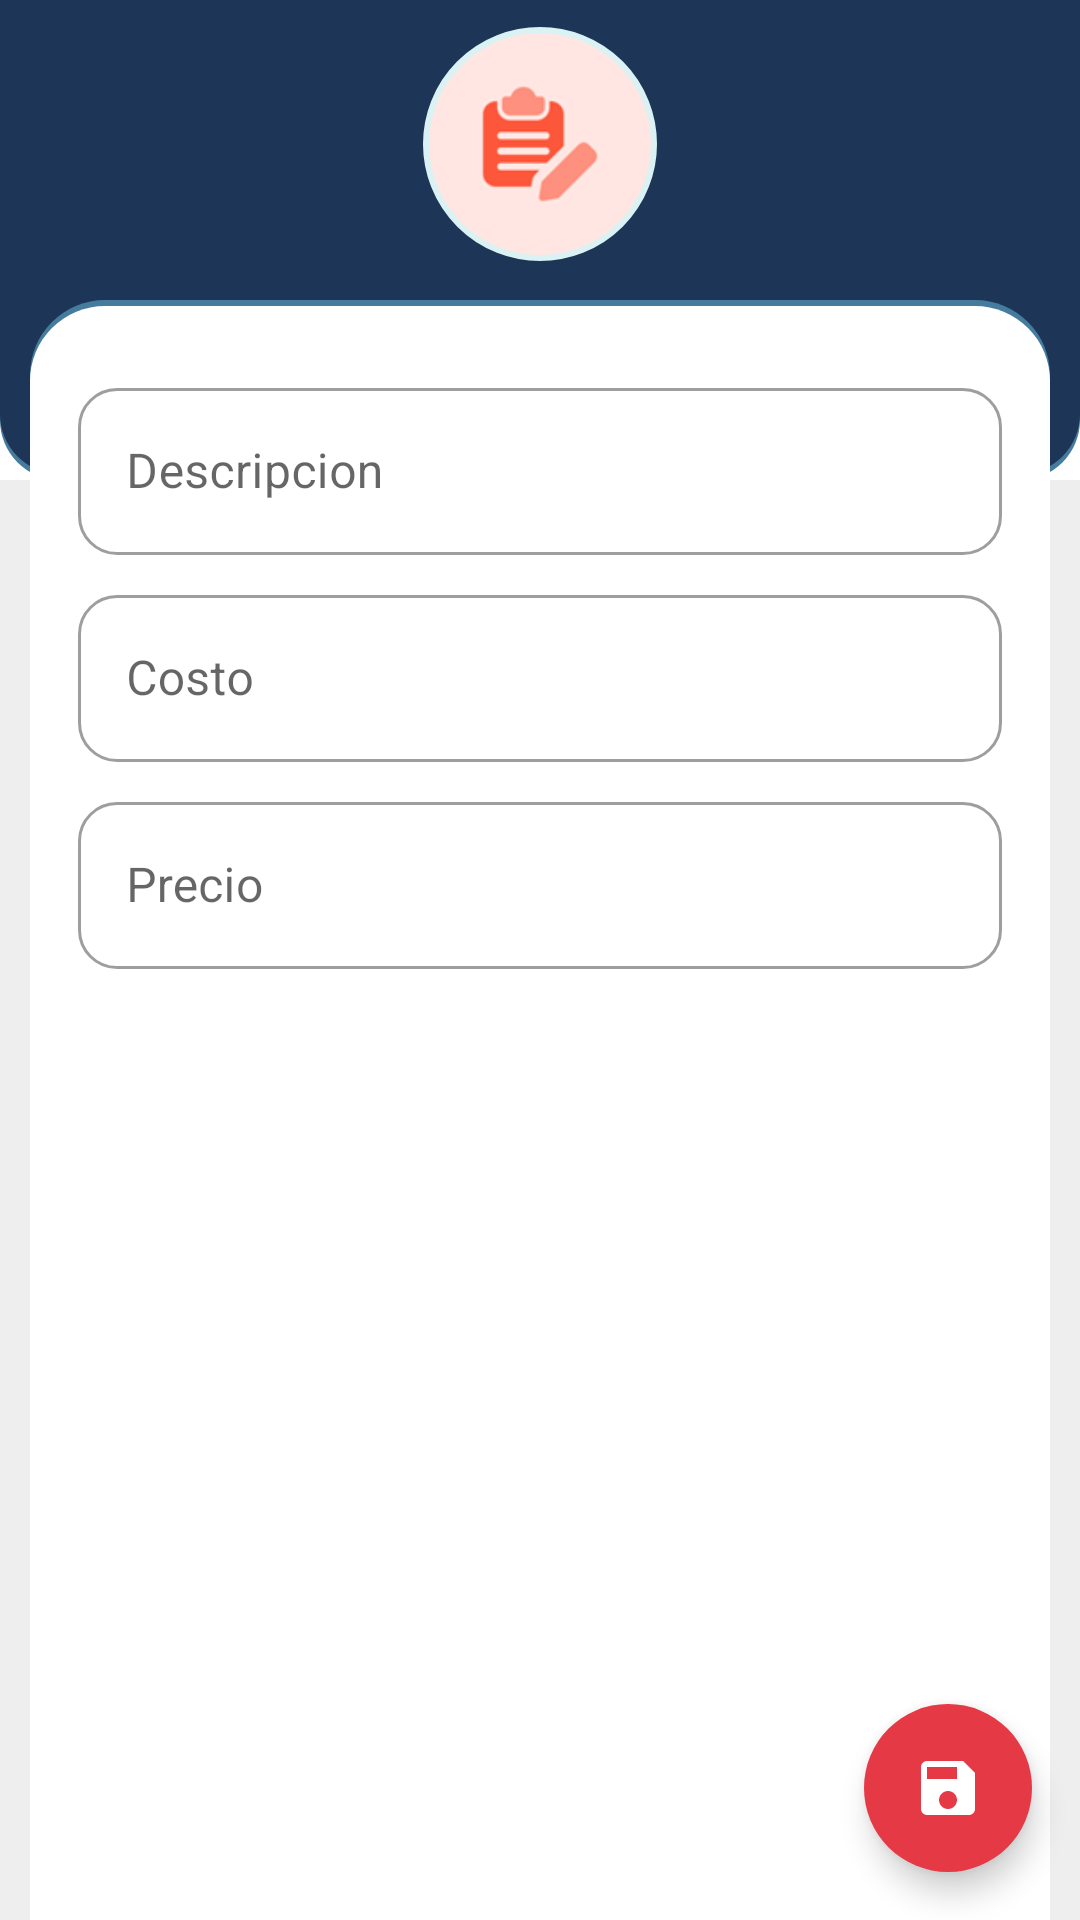

Where icons sit on this 1080px×1920px app screen, as rect(x1, y1, x2, y2):
editar: rect(423, 27, 657, 261)
save: rect(864, 1704, 1032, 1872)
